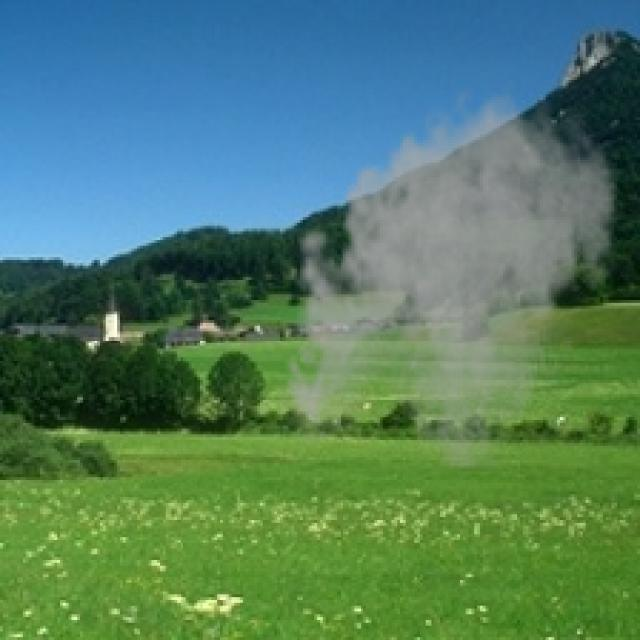Smoke: (274, 80, 626, 472)
